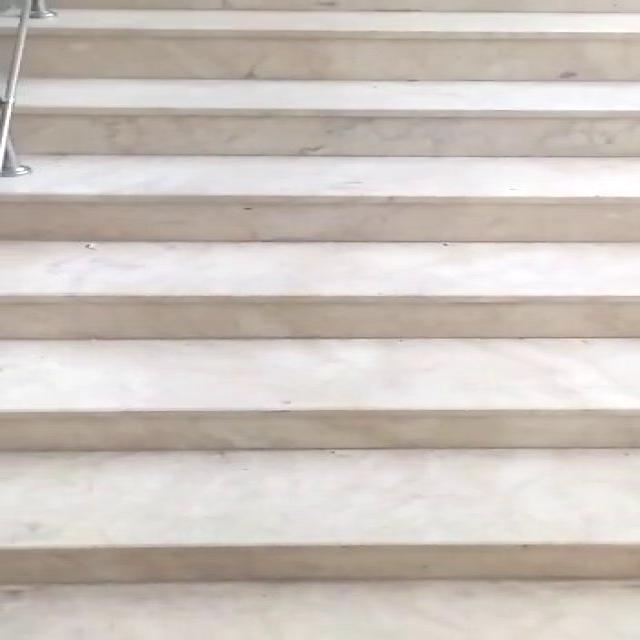stair: (4, 3, 640, 609)
